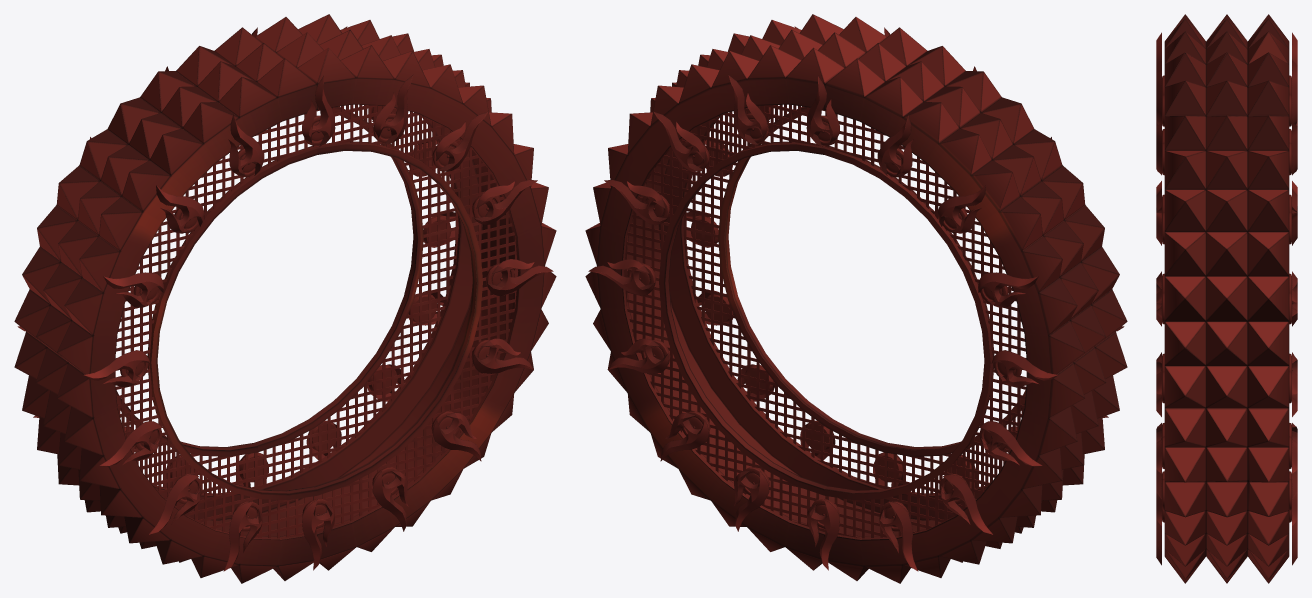
Rendered from Preview2.glb.
3 views of the same model, side by side, from view 1: azimuth 30°, elevation 25°; view 2: azimuth 150°, elevation 25°; view 3: azimuth 270°, elevation 25° (orthographic).
Parts seen in each view (by area): view 1: group4_pPlane2; view 2: group4_pPlane2; view 3: group4_pPlane2.
Part boxes in pixels (<box>): group4_pPlane2: <box>14,14,556,583</box>; group4_pPlane2: <box>585,14,1127,583</box>; group4_pPlane2: <box>1156,14,1297,583</box>.
Bounding box in the file's own units: 1.71 × 1.71 × 0.4251.
1 material, 1 textured.
